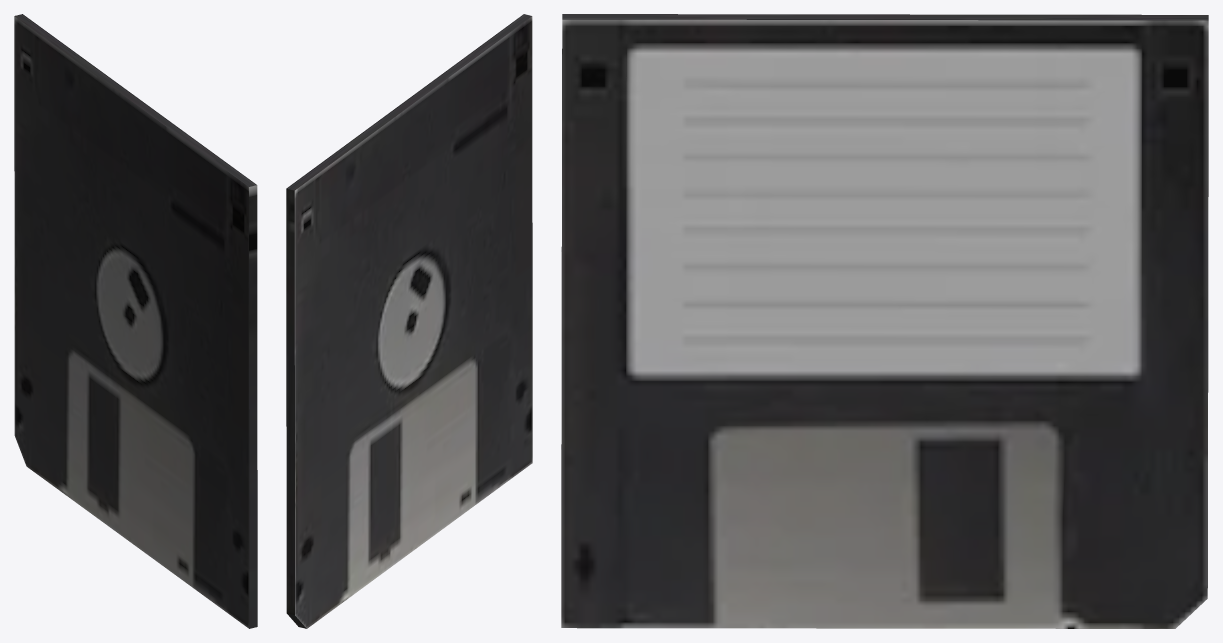
Rendered from floppy-transformed.glb.
3 renders of one model, left to right at view 1: azimuth 30°, elevation 25°; view 2: azimuth 150°, elevation 25°; view 3: azimuth 270°, elevation 25°, orthographic. The views are drawn at different scales.
Visible parts, largest first — view 1: Blank Floppy Disc_Blank Floppy Disk_0; view 2: Blank Floppy Disc_Blank Floppy Disk_0; view 3: Blank Floppy Disc_Blank Floppy Disk_0.
Boxes of the visible parts, bbox=[...] form: Blank Floppy Disc_Blank Floppy Disk_0: bbox=[14, 14, 257, 628]; Blank Floppy Disc_Blank Floppy Disk_0: bbox=[286, 14, 532, 628]; Blank Floppy Disc_Blank Floppy Disk_0: bbox=[561, 14, 1208, 628].
Size of the model in its own units: 0.00184 by 0.0941 by 0.0906.
1 material, 1 textured.
